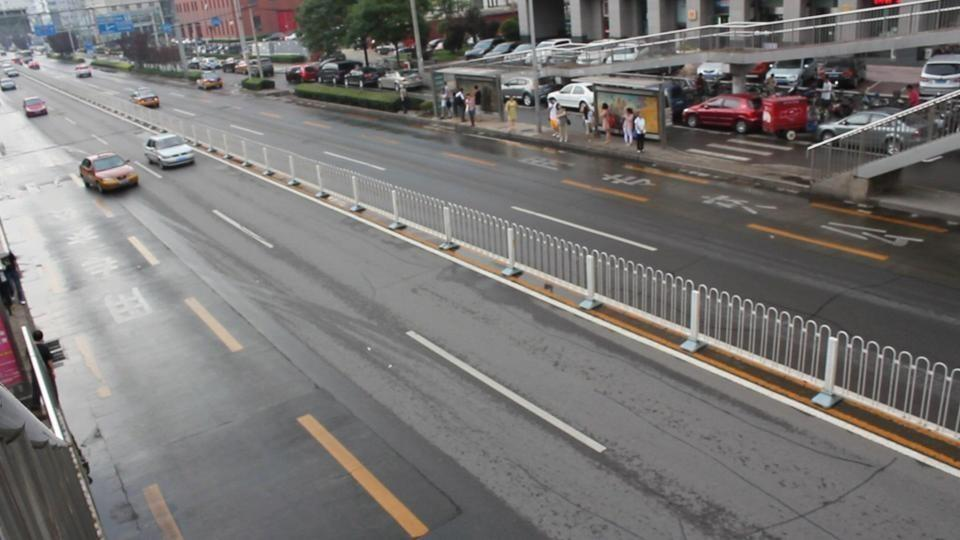car: (811, 108, 909, 146), (682, 94, 766, 134), (79, 151, 140, 194), (790, 58, 866, 88), (767, 57, 834, 90), (501, 76, 567, 107), (144, 131, 195, 170), (919, 53, 960, 97), (463, 37, 526, 62), (550, 83, 594, 112), (378, 70, 430, 92), (286, 63, 321, 84), (345, 70, 381, 89), (22, 96, 49, 118), (196, 73, 224, 91), (130, 92, 160, 108), (74, 64, 93, 78), (1, 76, 17, 91)
